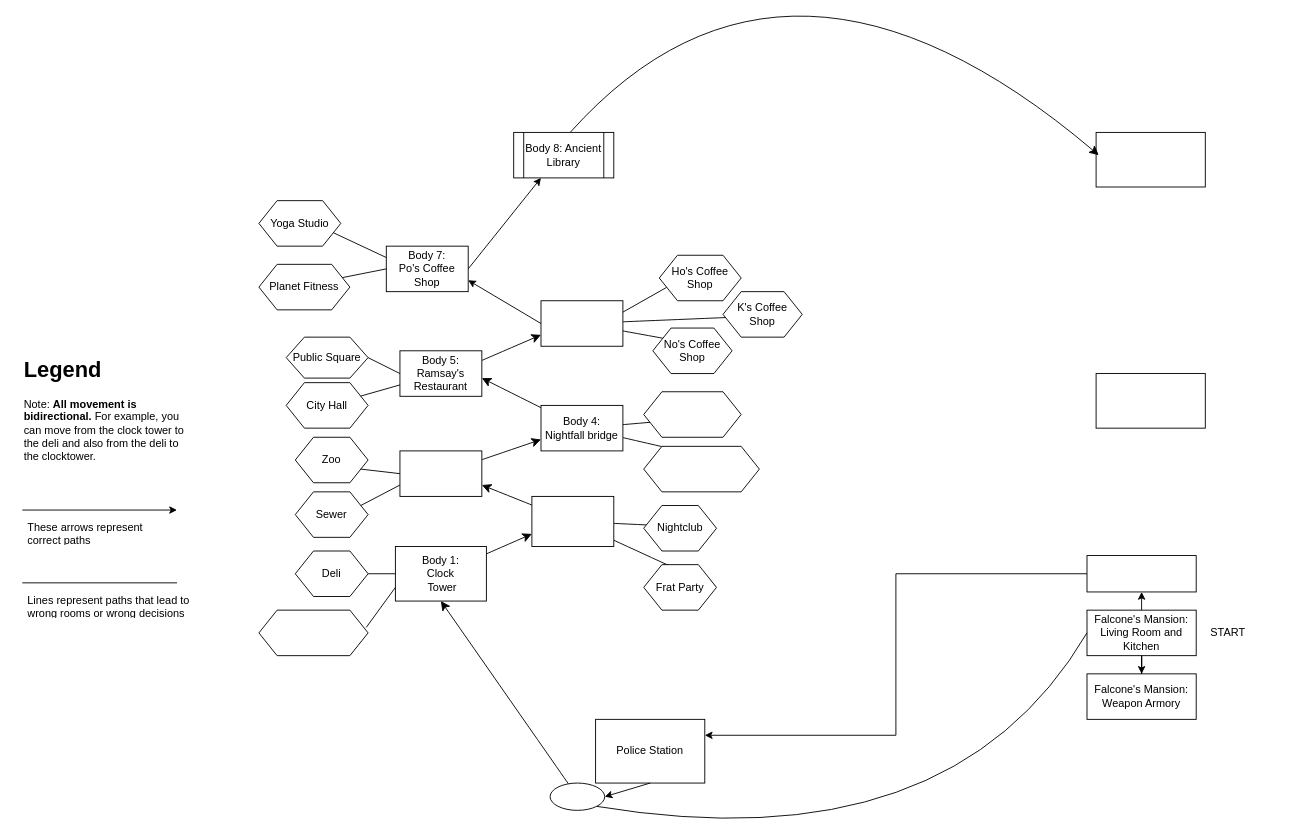
This 1294x834 diagram has some shape labels left out. The shapes that lost their labels are listed below. From the top down, each one's centre as x and y in pixels, then its label:
At (1150,159): "Abandoned Building".
At (581,323): "Body 6: Jazz Club".
At (692,414): "Fieri's Grocery Store".
At (1150,400): "Radioactive Warehouse in Mall".
At (440,473): "Body 3: Casino".
At (701,468): "Bobby Flay's Filet Place".
At (572,520): "Body 2: Apartment 1 rooftop".
At (1141,573): "Mansion Helipad".
At (313,632): "Aaron's Tattoo shop".
At (577,796): "Audi R8".
